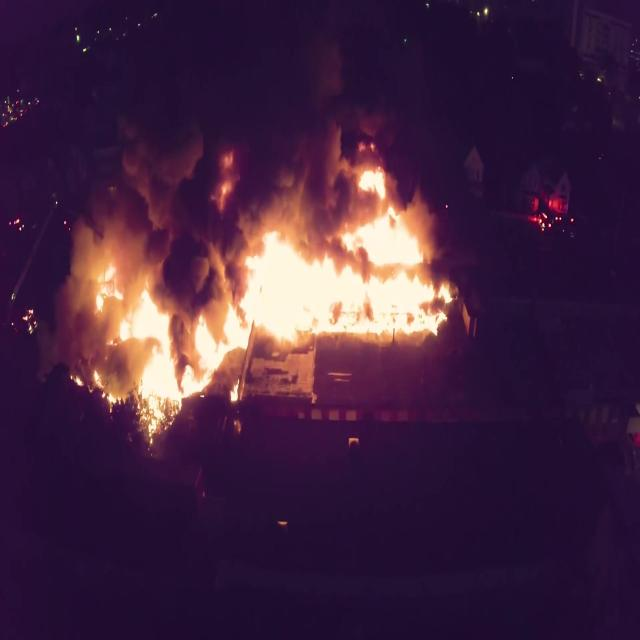Fire: (60, 148, 463, 441)
Smoke: (63, 3, 479, 337)
